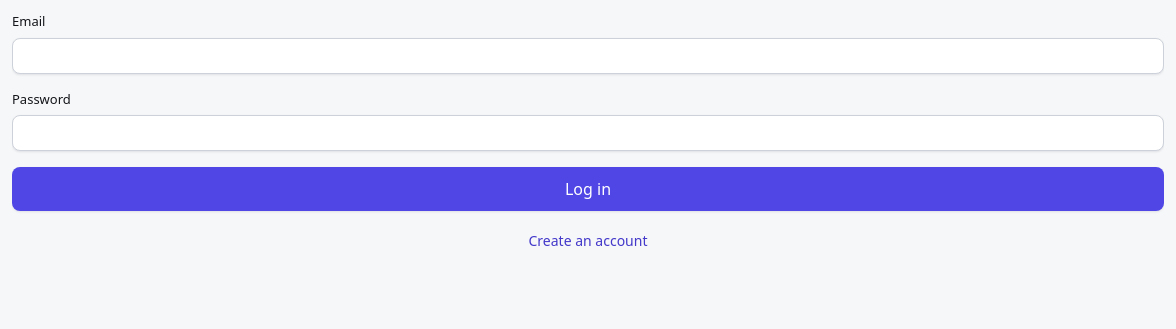
Test: auth forms › displays the generic API error for invalid login credentials
Type "unknown@example.com" into the field labelled "Email" at coordinates (588, 56), box [12,38,1164,74]
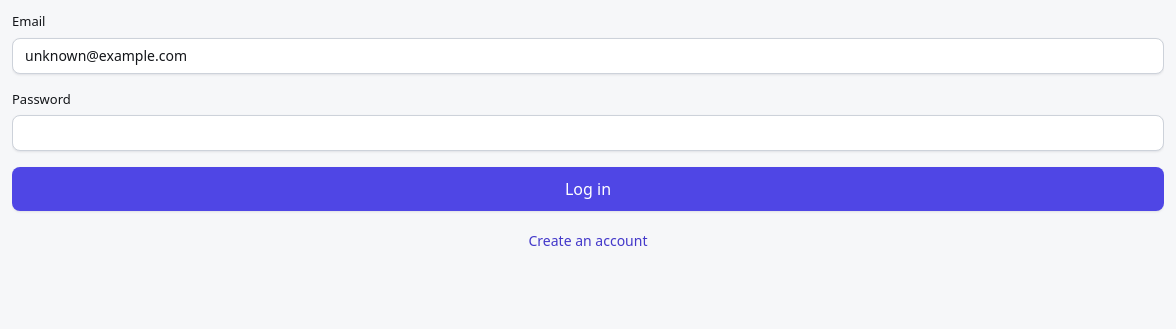
Type "x" into the password field labelled "Password" at coordinates (588, 133), box [12,115,1164,151]
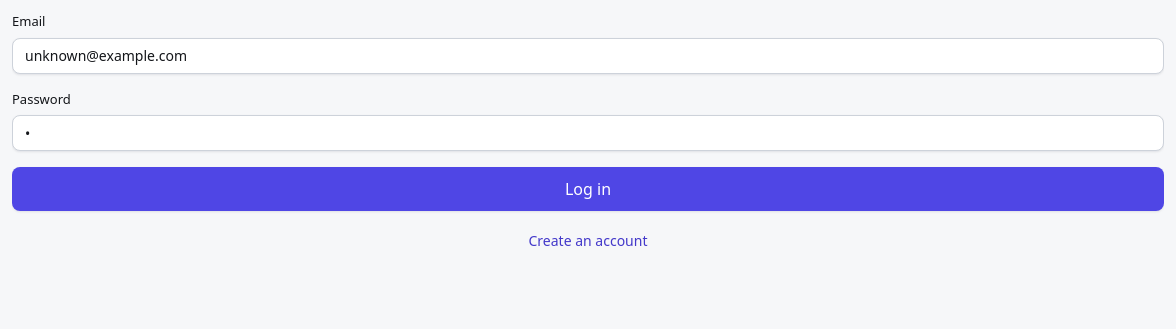
Submit the form "Log in"
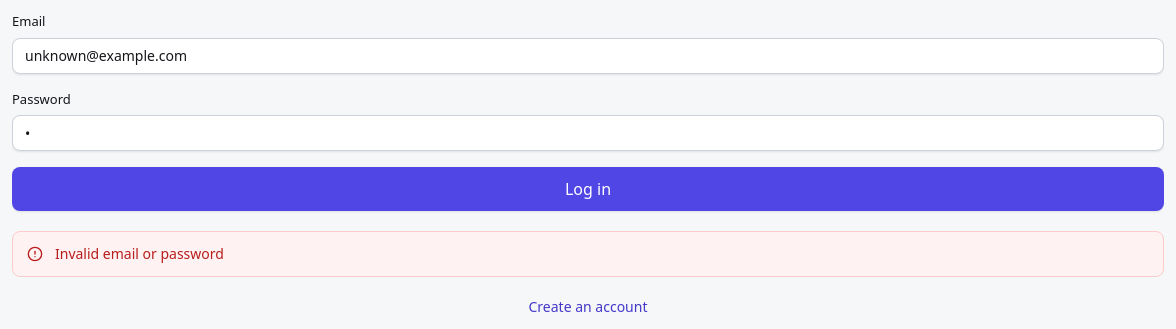
Check: the text "Invalid email or password" is shown, box [55,244,224,263]
